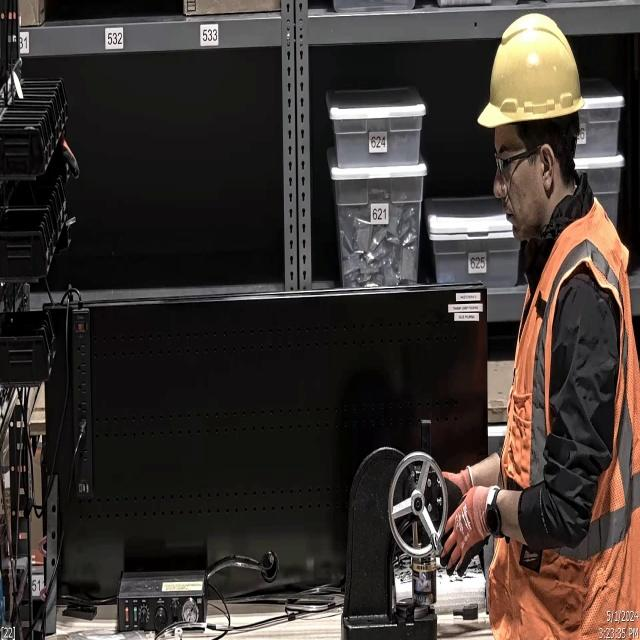gloves: (435, 479, 493, 577)
